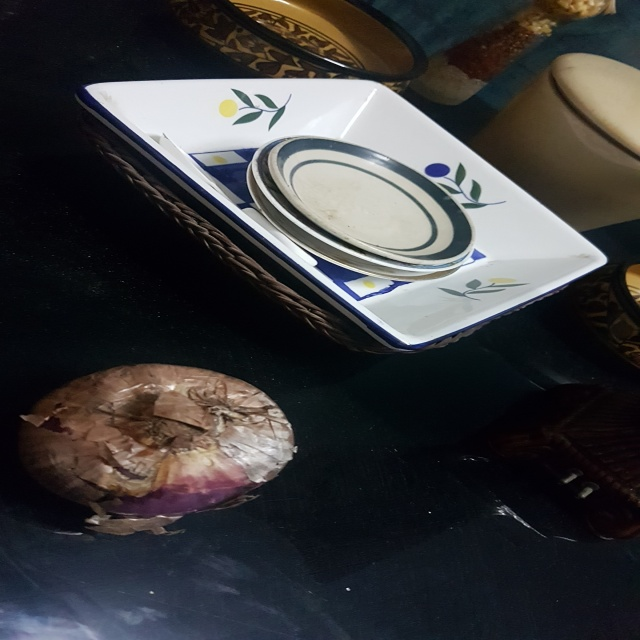onion: (18, 356, 300, 544)
